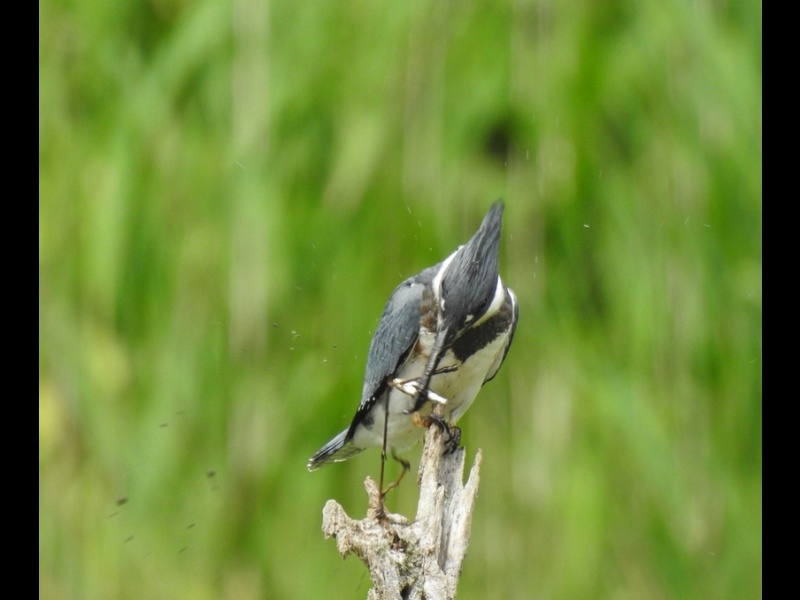kingfisher: (301, 191, 523, 487)
